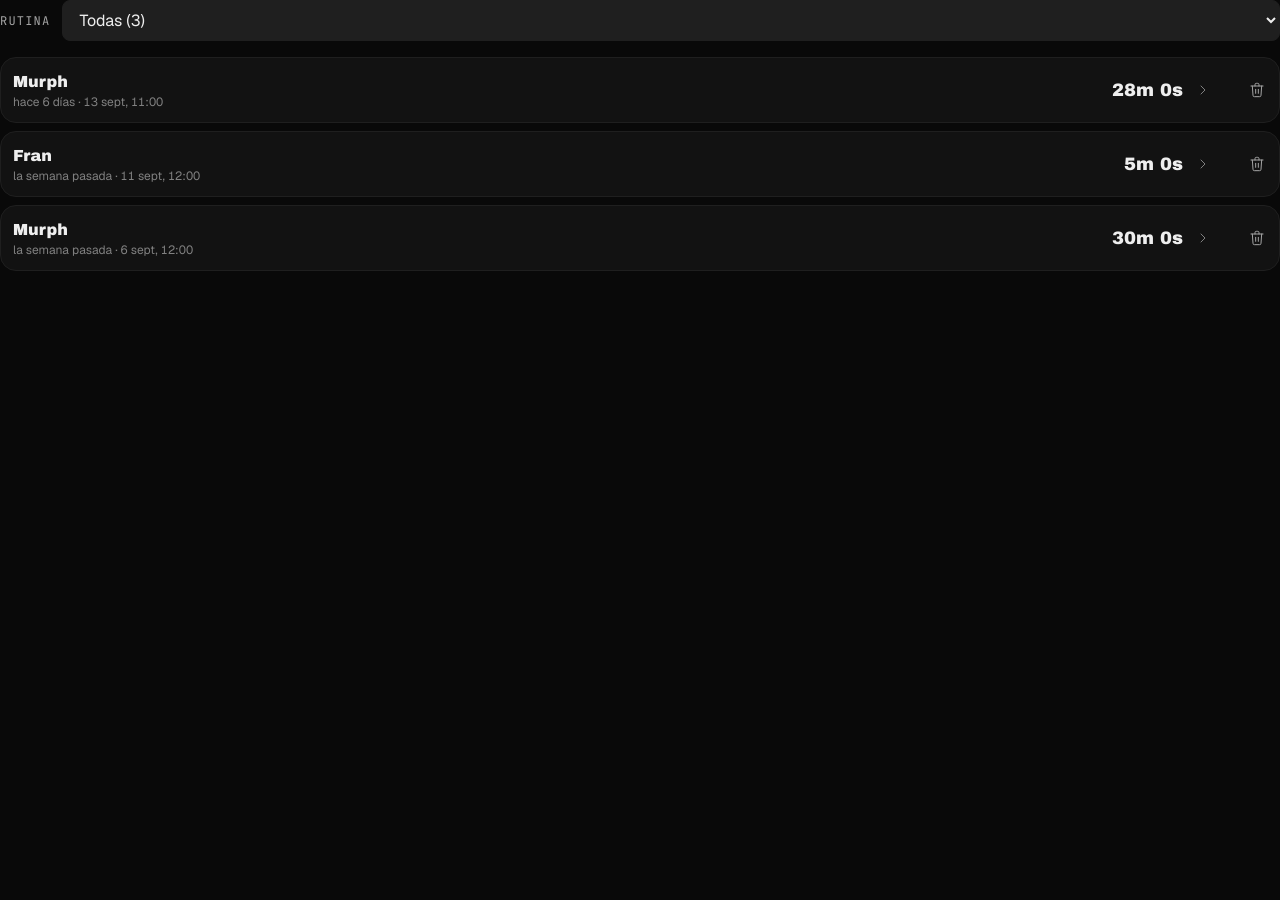
Scenario: HistoryList delete entry › removing one entry updates per-workout stats
Select "Murph (2)" in the dropdown named "filtrar historial por rutina". click: (671, 20)
box: [62, 0, 1279, 41]
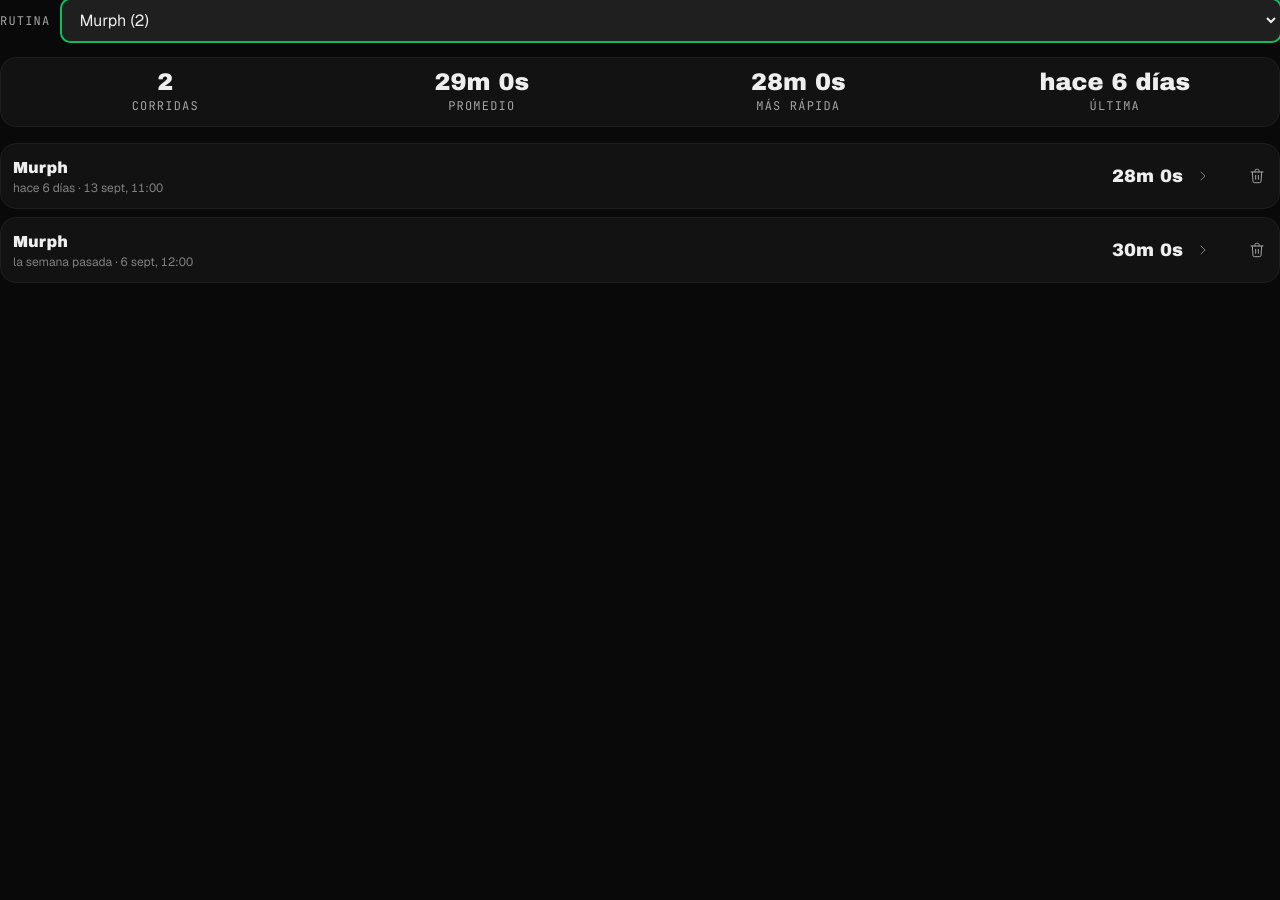
expect the text "2" is shown: met, box [157, 69, 173, 95]
Click the 1st button named "borrar corrida de murph". click: (1257, 176)
box: [1235, 154, 1279, 198]
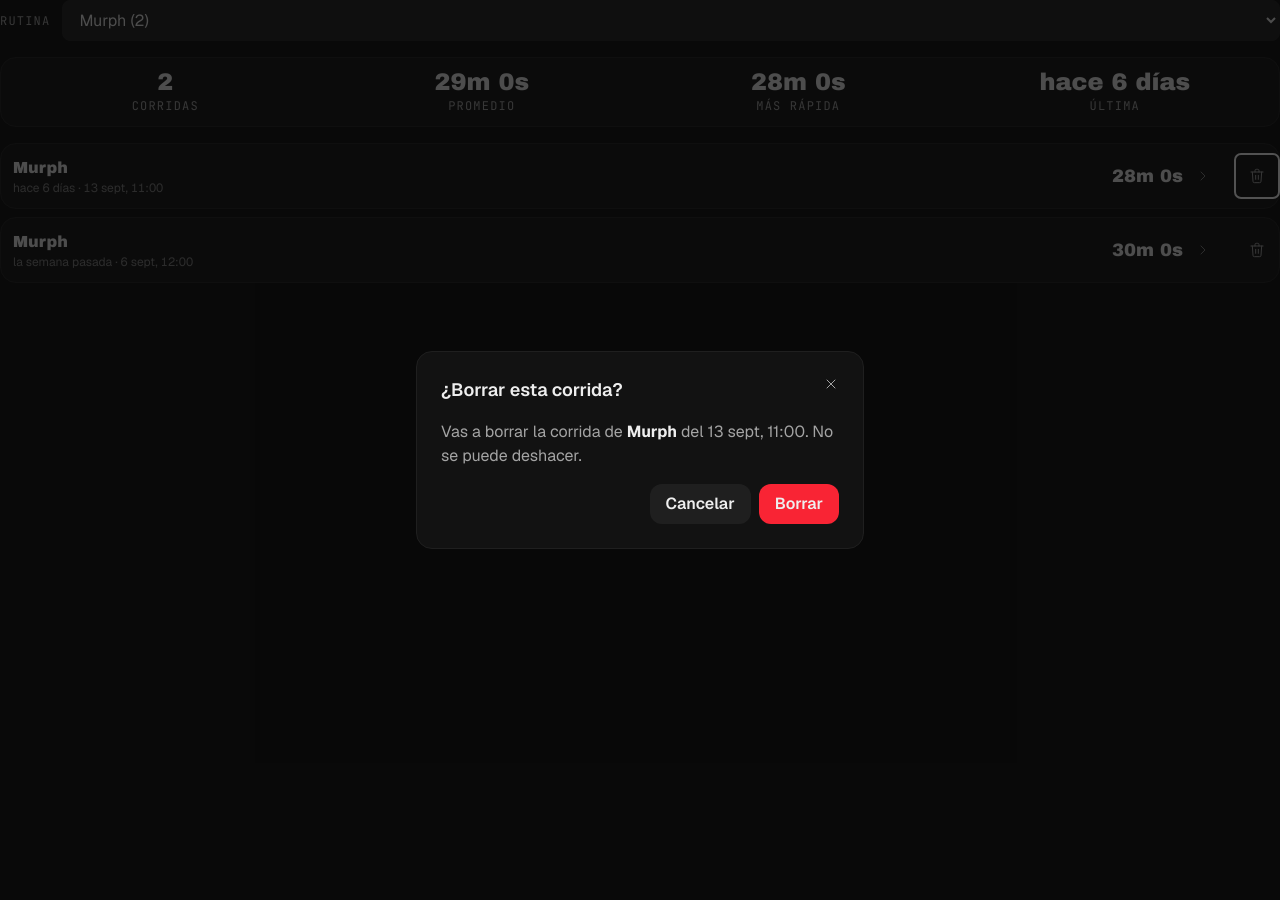
Click the button "Borrar". click: (799, 504)
box: [759, 484, 839, 524]
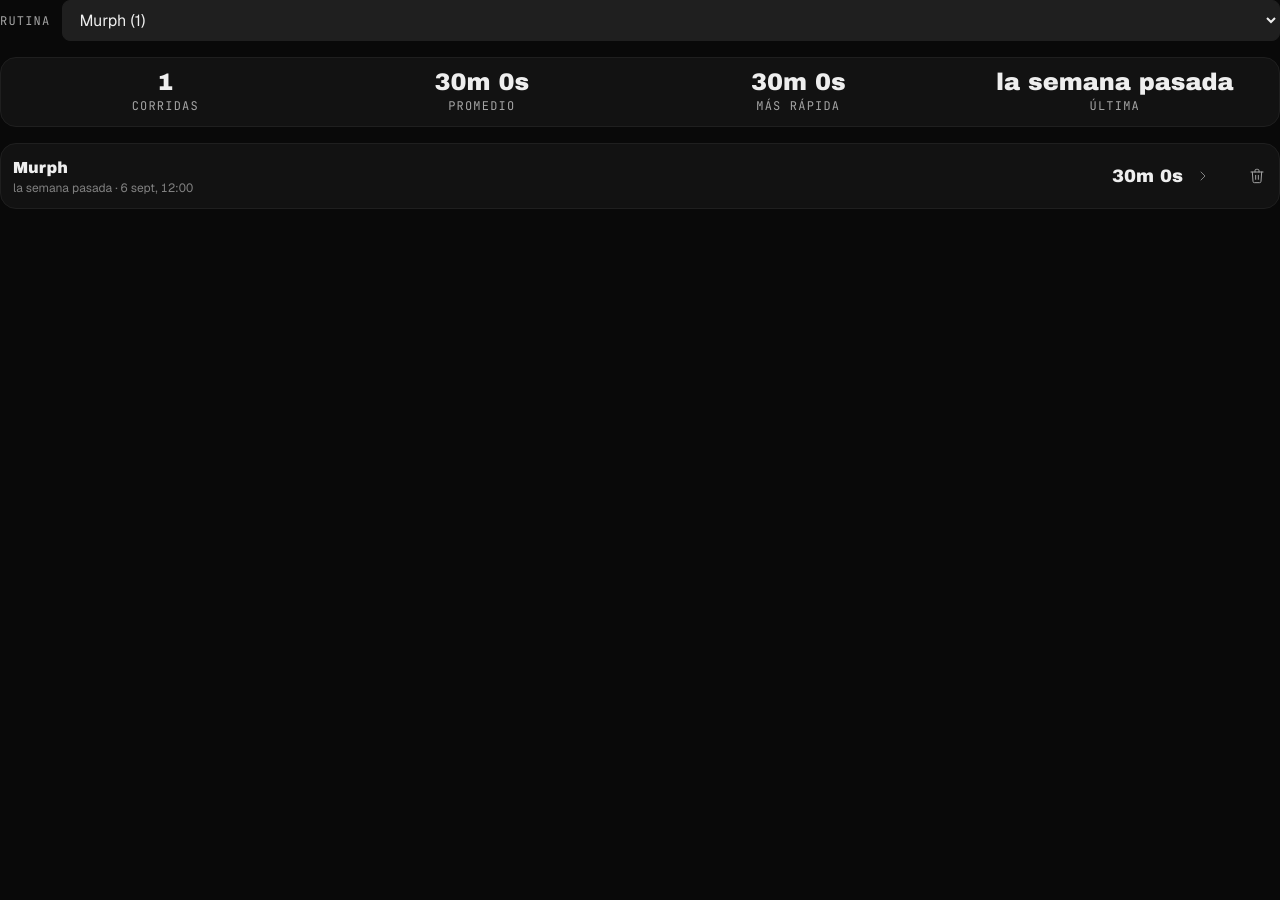
expect the text "1" is shown: met, box [157, 69, 173, 95]
